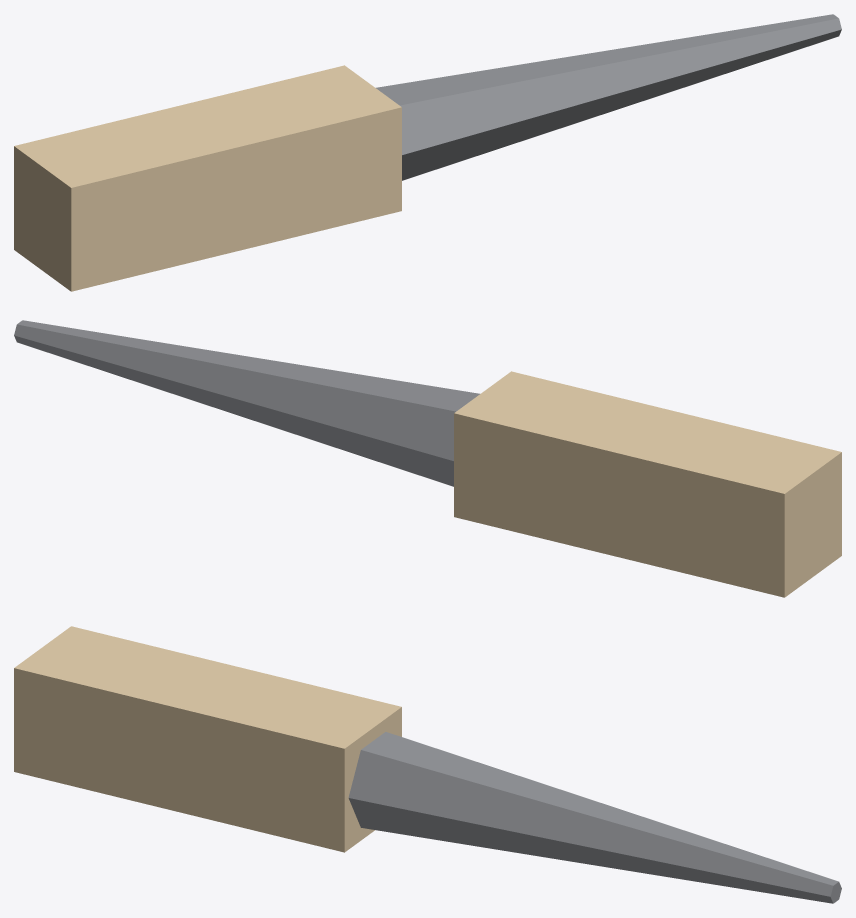
Rendered from prop-pegboard-reamer-pb1.fbx.
3 renders of one model, top to bottom at view 1: azimuth 30°, elevation 25°; view 2: azimuth 150°, elevation 25°; view 3: azimuth 330°, elevation 25°, orthographic.
Visible parts, largest first — view 1: prop-pegboard-reamer-pb1; view 2: prop-pegboard-reamer-pb1; view 3: prop-pegboard-reamer-pb1.
Part boxes in pixels (left/top/right/bottom): prop-pegboard-reamer-pb1: left=14, top=14, right=841, bottom=291; prop-pegboard-reamer-pb1: left=14, top=320, right=841, bottom=597; prop-pegboard-reamer-pb1: left=14, top=626, right=841, bottom=903.
Bounding box in the file's own units: 0.24 × 0.03 × 0.03.
